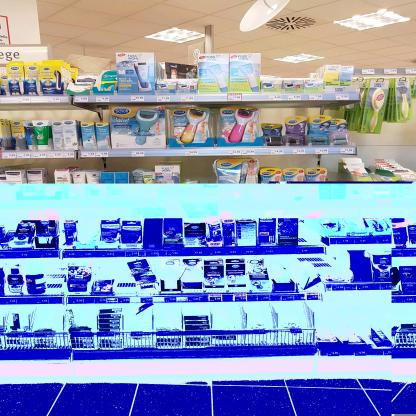Void: (263, 53, 322, 78), (69, 56, 108, 74), (186, 159, 214, 184)
